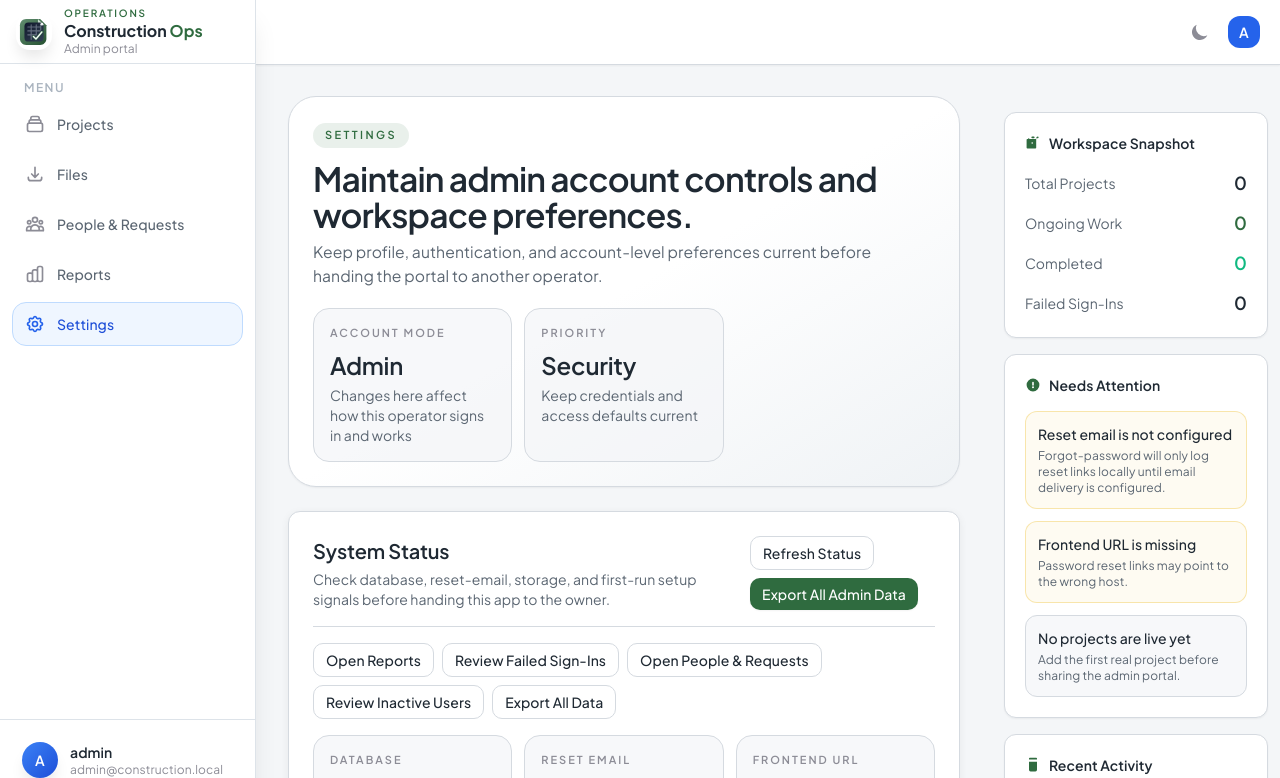
Test: AdminDashboard route shell › settings route deep-links to auth activity review
The image size is (1280, 778).
Expected: the heading "System Status" is shown, top-left (313, 538), bottom-right (449, 563)
Click the button "Review Failed Sign-Ins".
click(531, 660)  # box top-left (442, 643), bottom-right (619, 677)
(page scrolled)
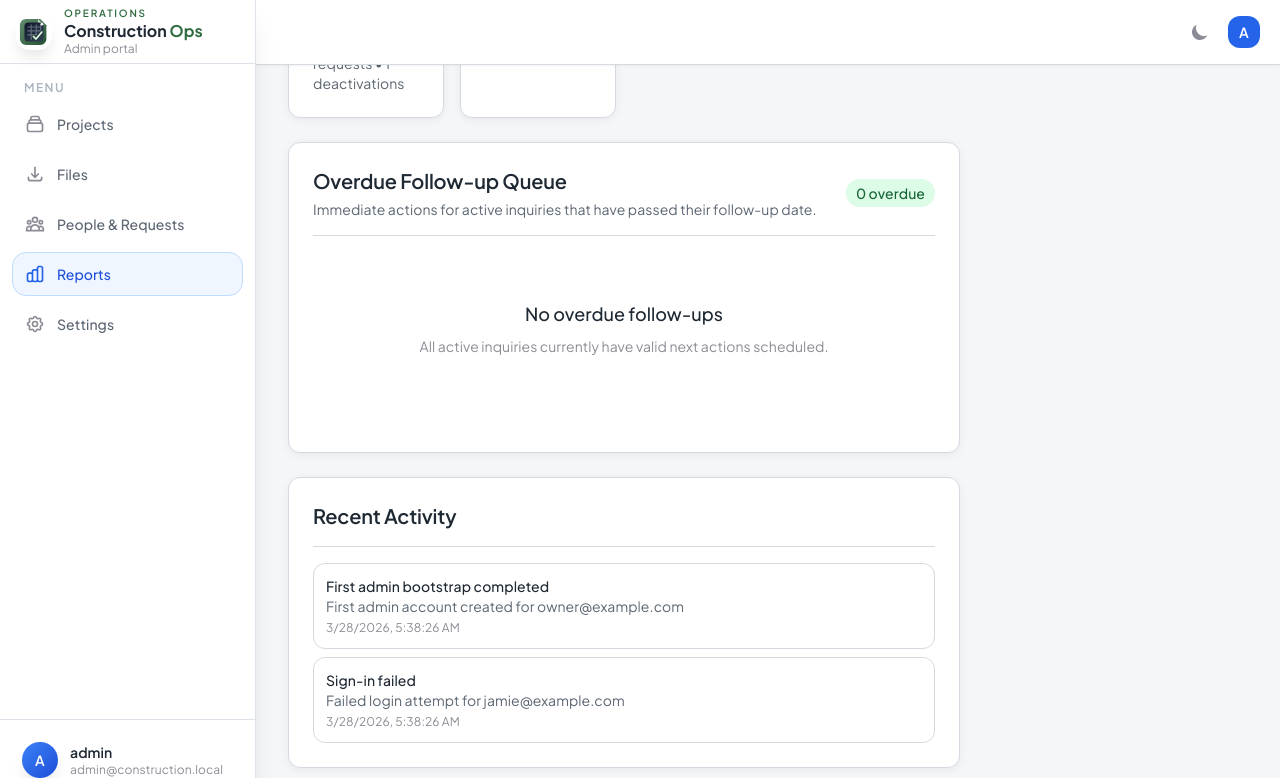
Expected: the text "Failed login attempt for jamie@example.com" is shown, top-left (326, 691), bottom-right (625, 709)
